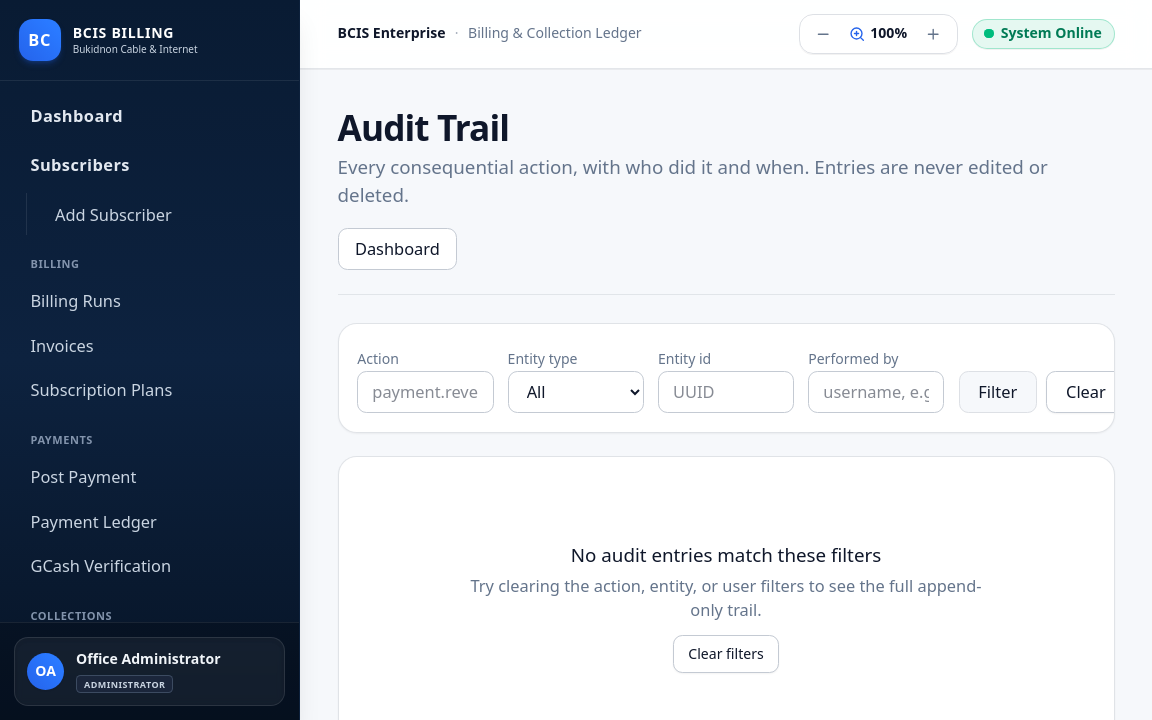
Test: AuditLogPage filters › clears the applied filter as well as the typed one
Type "demo.cashier" into the field labelled "Performed by" at (876, 392), box [808,371,944,413]
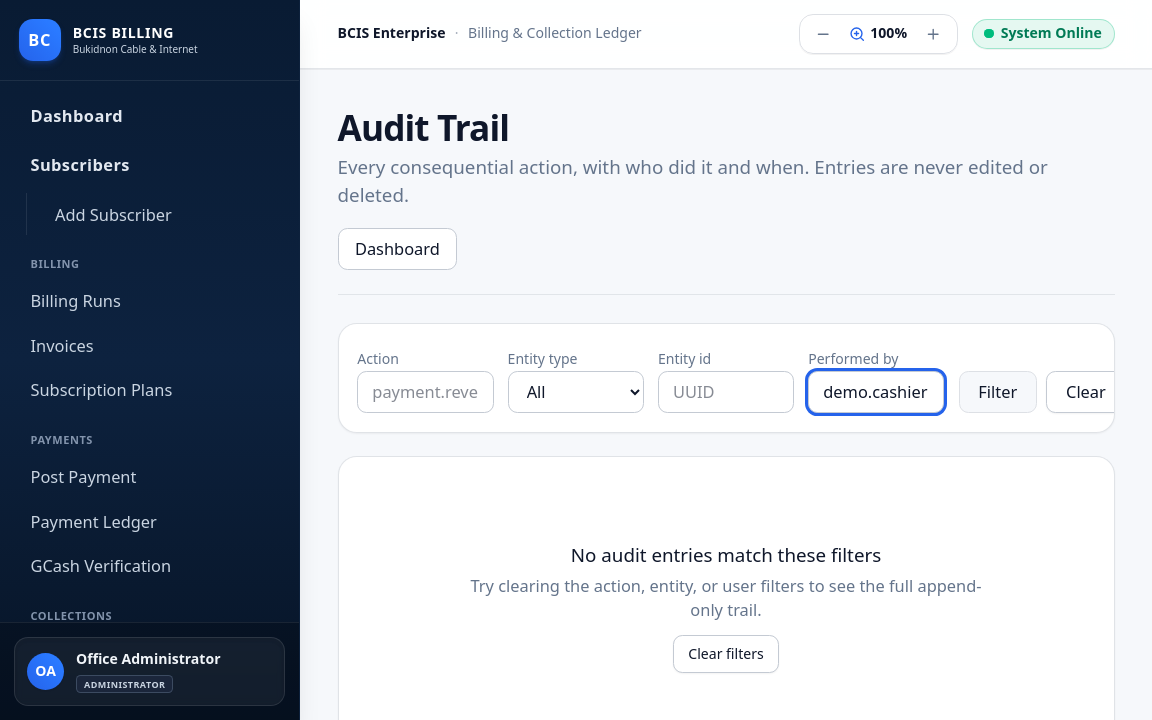
Click the button "Filter" at (998, 392), box [958,371,1037,413]
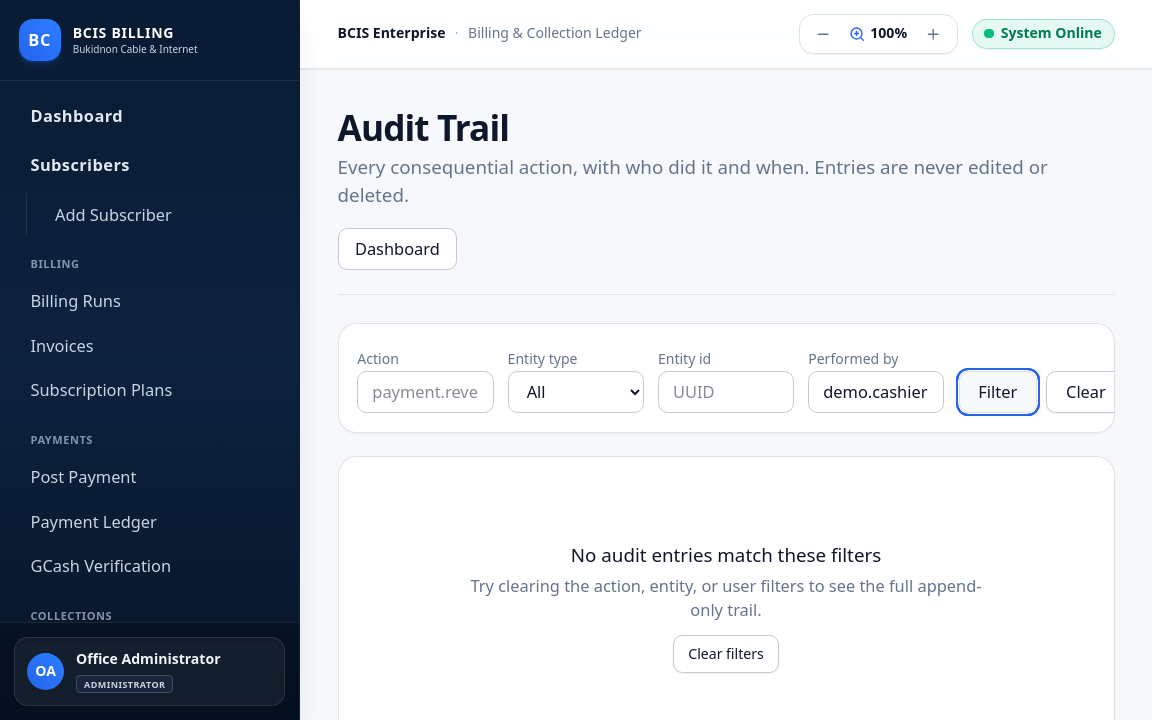
Click the button "Clear" at (1086, 392), box [1046,371,1126,413]
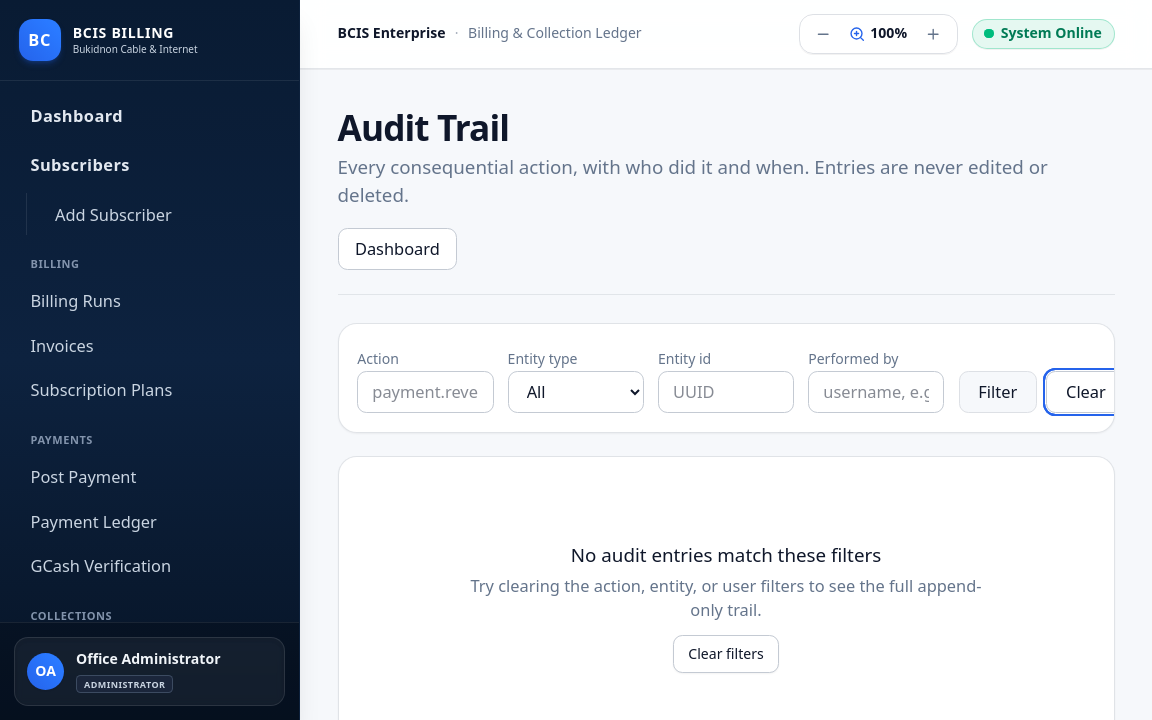
Result: the field labelled "Performed by" is empty at [808,371,944,413]
